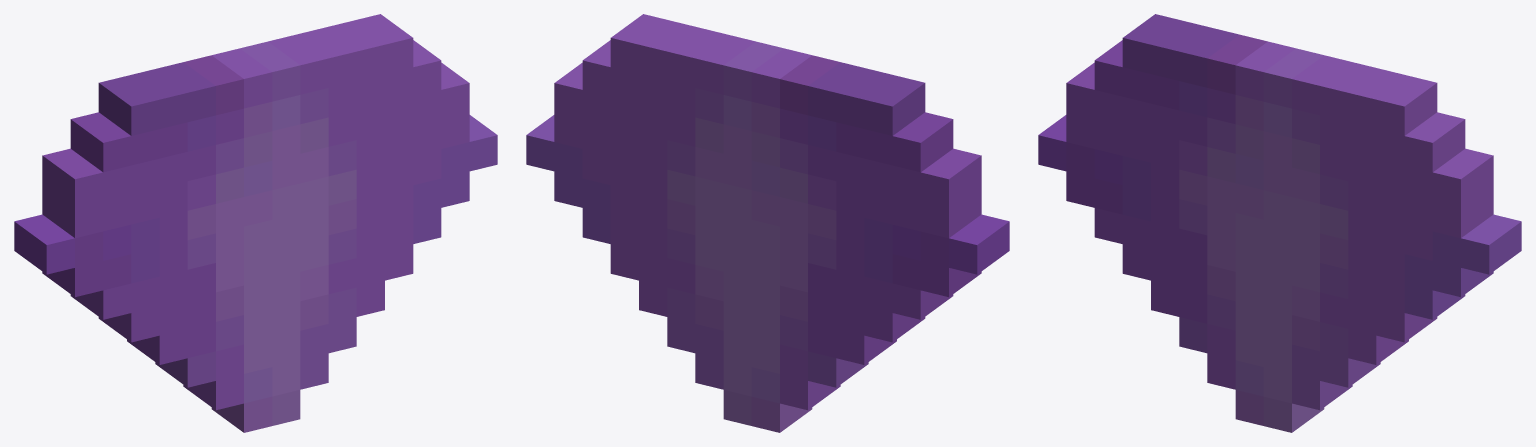
The model's file is gem-purple.glb.
3 views of the same model, side by side, from view 1: azimuth 30°, elevation 25°; view 2: azimuth 150°, elevation 25°; view 3: azimuth 330°, elevation 25° (orthographic).
Visible parts, largest first — view 1: prop; view 2: prop; view 3: prop.
Boxes of the visible parts, x1=… form: prop: x1=14, y1=14, x2=497, y2=432; prop: x1=526, y1=14, x2=1009, y2=432; prop: x1=1038, y1=14, x2=1521, y2=432.
Size of the model in its own units: 16 by 12 by 2.
